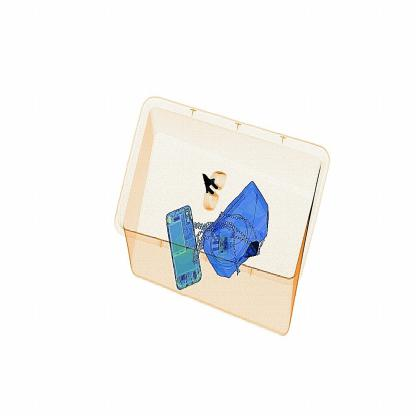gun: (192, 156, 234, 218)
